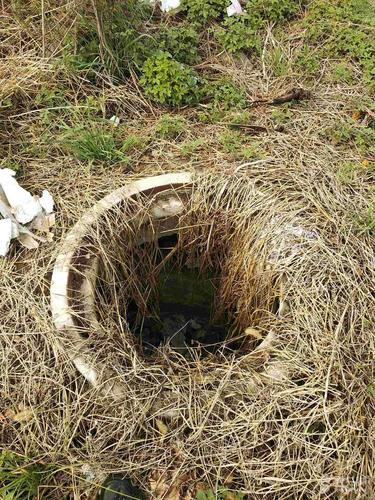lose: (50, 179, 334, 428)
